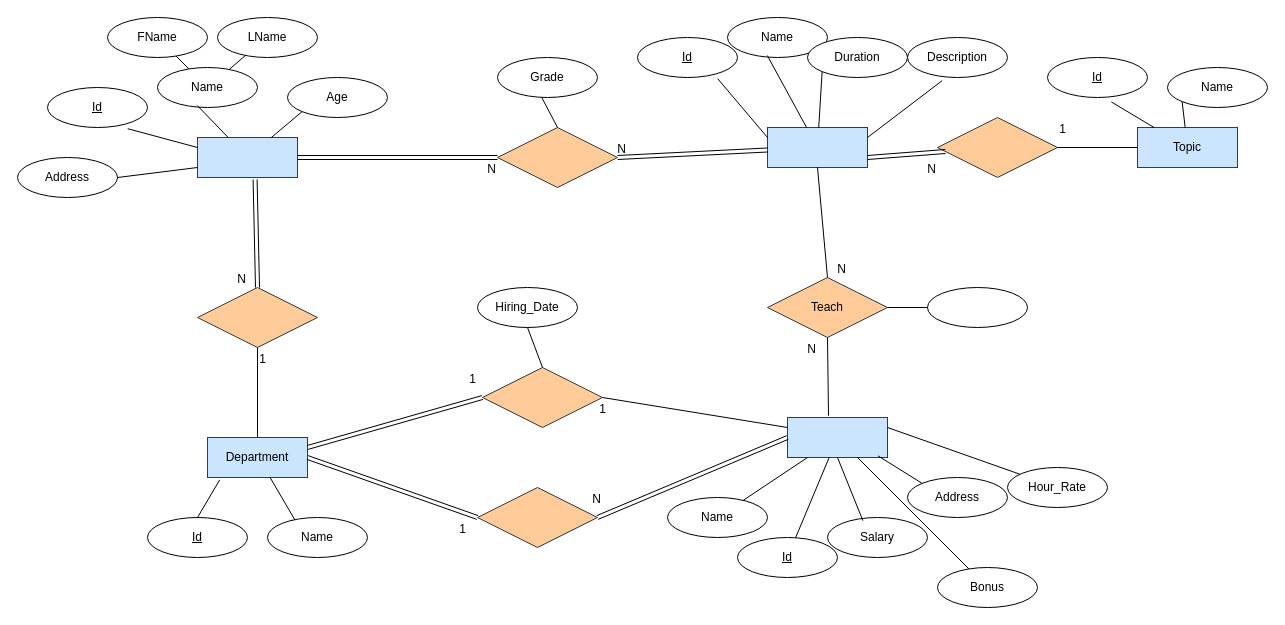
Some shapes in this 1285 by 625 pixel diagram are drawn without their labels. The shapes that lost their labels are listed below. From the top down, each one's box as (x1, y1, x2, y2) in pixels, then its label:
(196, 136, 298, 178): Student
(496, 126, 618, 188): Take
(766, 126, 868, 168): Course
(936, 116, 1058, 178): Classify
(196, 286, 318, 348): Located
(926, 286, 1028, 328): Evaluation
(482, 366, 602, 428): Manage
(786, 416, 888, 458): Instructor
(476, 486, 598, 548): Contain
